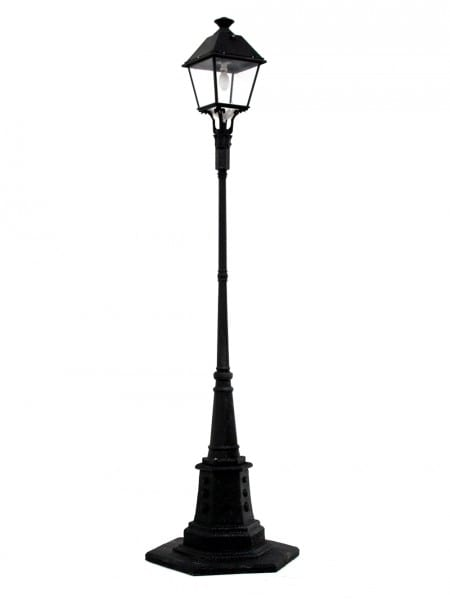Lamp: (148, 11, 303, 579)
